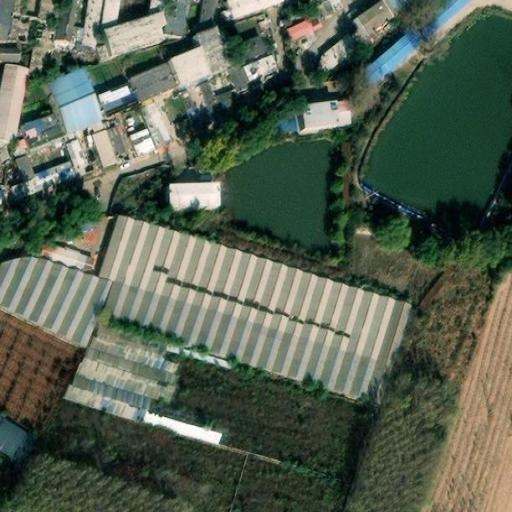building: (0, 255, 390, 405), (99, 214, 409, 366), (71, 379, 223, 446), (77, 348, 174, 406), (92, 320, 183, 375), (49, 67, 105, 134), (105, 8, 169, 54), (13, 151, 78, 195), (8, 112, 63, 157), (140, 94, 179, 148), (34, 234, 94, 269), (411, 262, 453, 311), (130, 63, 179, 102), (168, 45, 213, 86), (231, 52, 280, 88), (226, 30, 273, 67), (296, 100, 352, 131), (64, 136, 103, 180), (198, 27, 234, 73), (105, 114, 137, 163), (194, 75, 235, 113), (86, 120, 120, 165), (316, 29, 357, 66), (167, 182, 217, 209), (77, 0, 103, 49), (94, 79, 136, 108), (13, 0, 60, 20), (128, 127, 158, 157), (284, 14, 317, 41), (277, 106, 299, 133), (100, 0, 120, 27), (147, 0, 167, 16), (201, 0, 213, 21)
